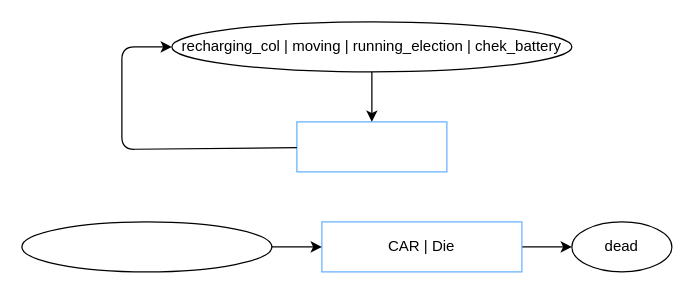
The diagram is 694 pixels wide and 294 high, and some of its shapes have lost their labels. Each missing label, with the box of its shape:
Automa of car: (21, 221, 272, 272)
ENV | Tick: (296, 121, 447, 172)
